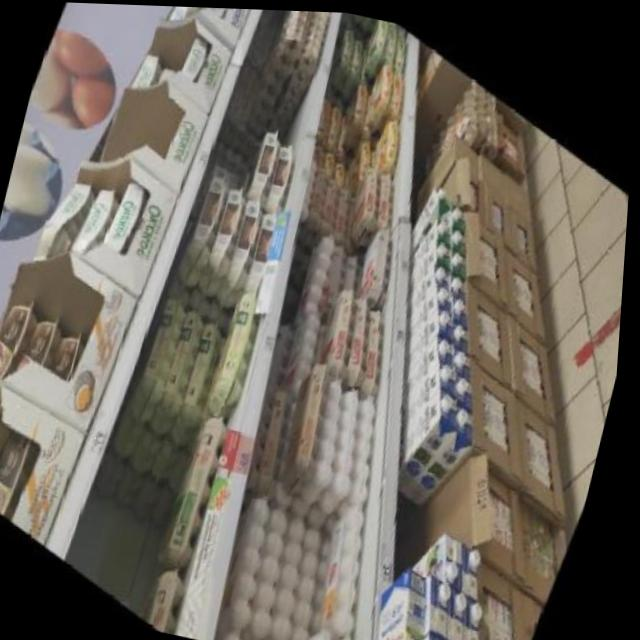Egg: (148, 398, 249, 582), (170, 161, 241, 296), (26, 161, 104, 282), (191, 177, 259, 309), (210, 189, 277, 319), (0, 281, 49, 412), (68, 172, 126, 270), (0, 416, 52, 523), (238, 117, 293, 208), (102, 168, 156, 260), (255, 133, 308, 221), (22, 302, 73, 383), (49, 321, 94, 386), (0, 387, 24, 502), (173, 25, 214, 89), (185, 5, 218, 15), (206, 6, 232, 17)
